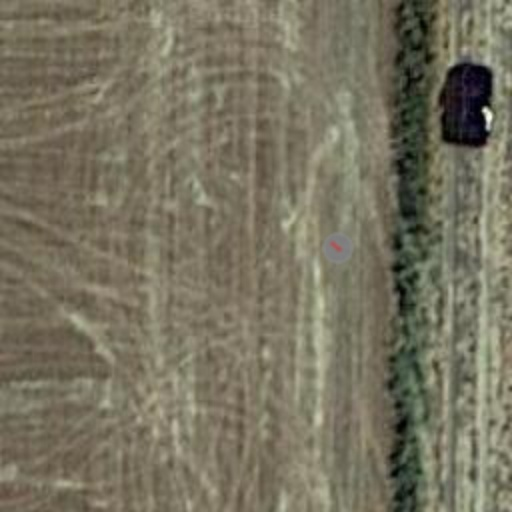circle: (316, 226, 360, 270)
